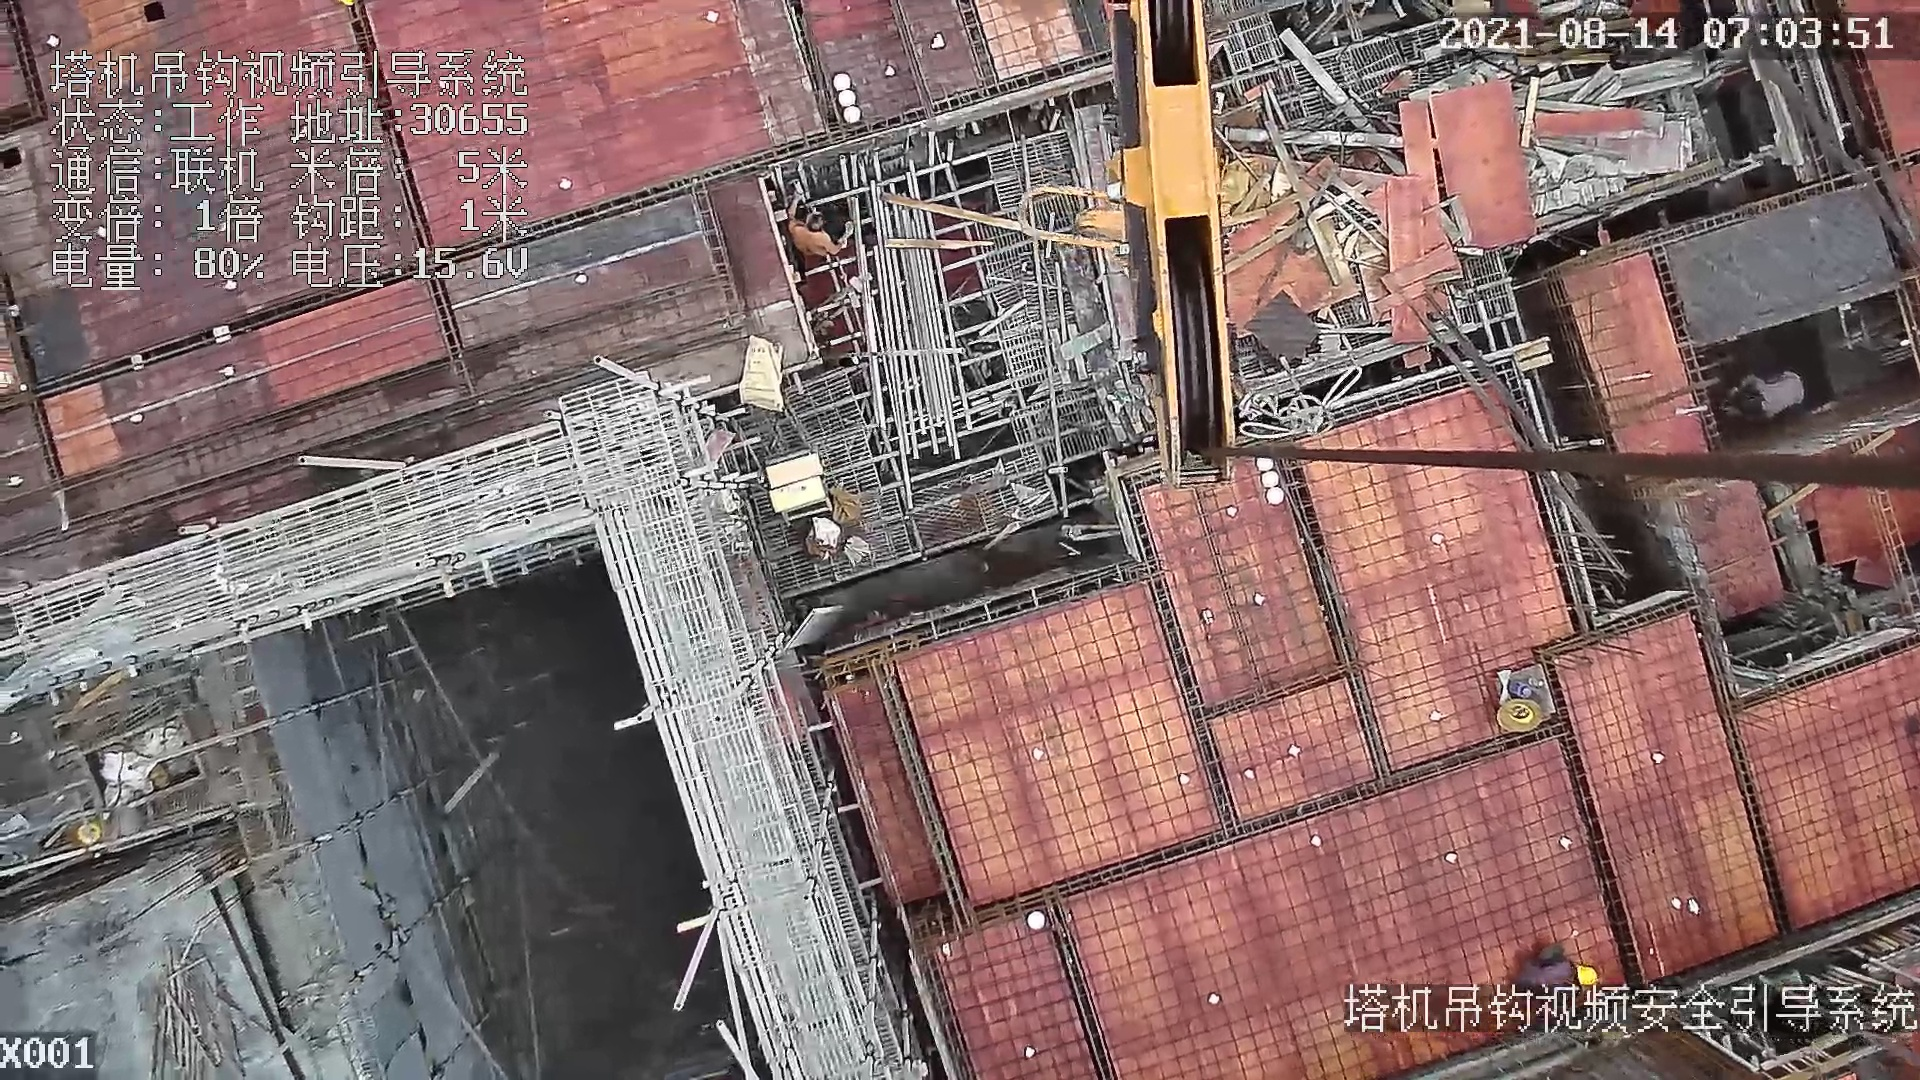helmet: (1575, 960, 1598, 989)
hook: (1012, 1, 1238, 486)
person: (1510, 939, 1601, 992), (1724, 370, 1810, 422), (783, 199, 858, 258)
